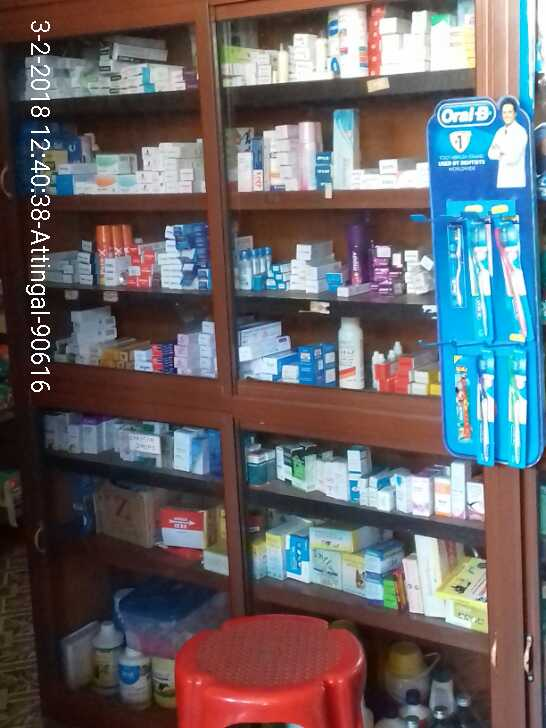oralb: (492, 204, 533, 341), (461, 203, 498, 343), (508, 350, 529, 469), (474, 348, 494, 467)
